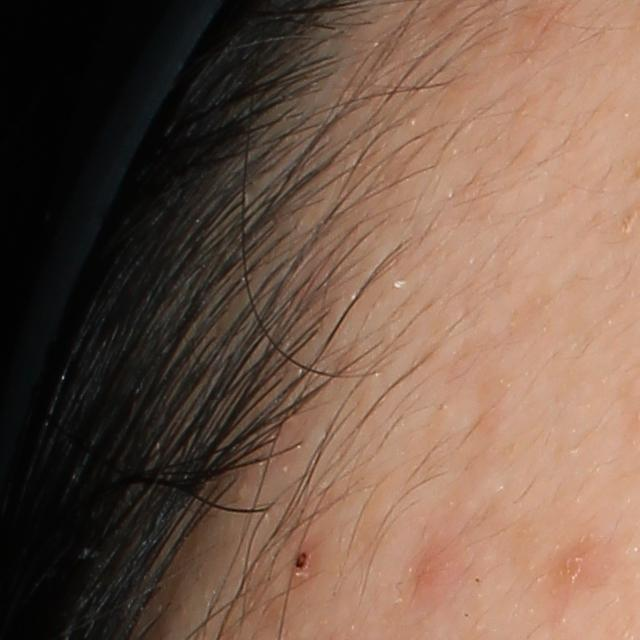papule: (407, 537, 458, 604)
